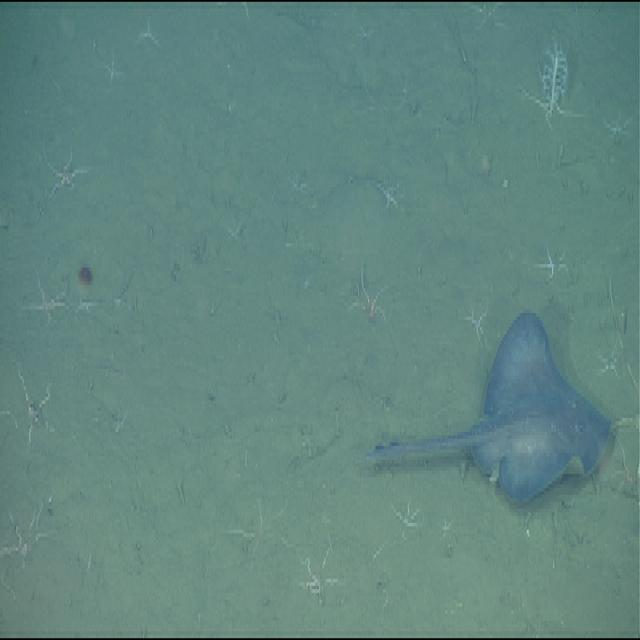Brittle Star: (220, 483, 304, 575), (8, 365, 59, 446), (22, 264, 71, 332), (299, 538, 345, 606), (533, 234, 577, 299), (386, 491, 428, 549), (373, 175, 409, 231), (458, 296, 495, 350), (360, 266, 389, 332), (434, 509, 458, 544)
Not Brittle Star: (366, 310, 612, 506), (535, 35, 569, 126)
